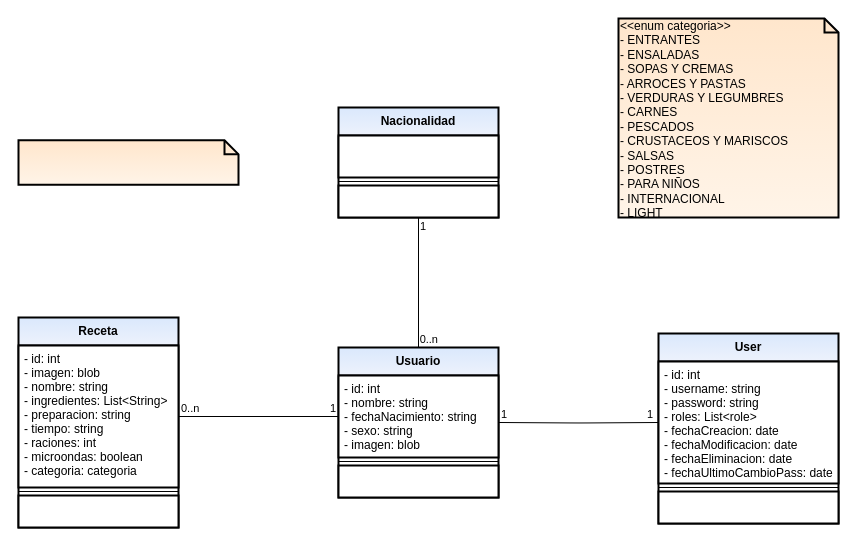
This 856x545 diagram has some shape labels left out. Each missing label, with the centre of its shape:
- id: int - descripcion: string: (418,156)
<<enum role>> - INVITADO - AUTENTICADO: (128,162)
